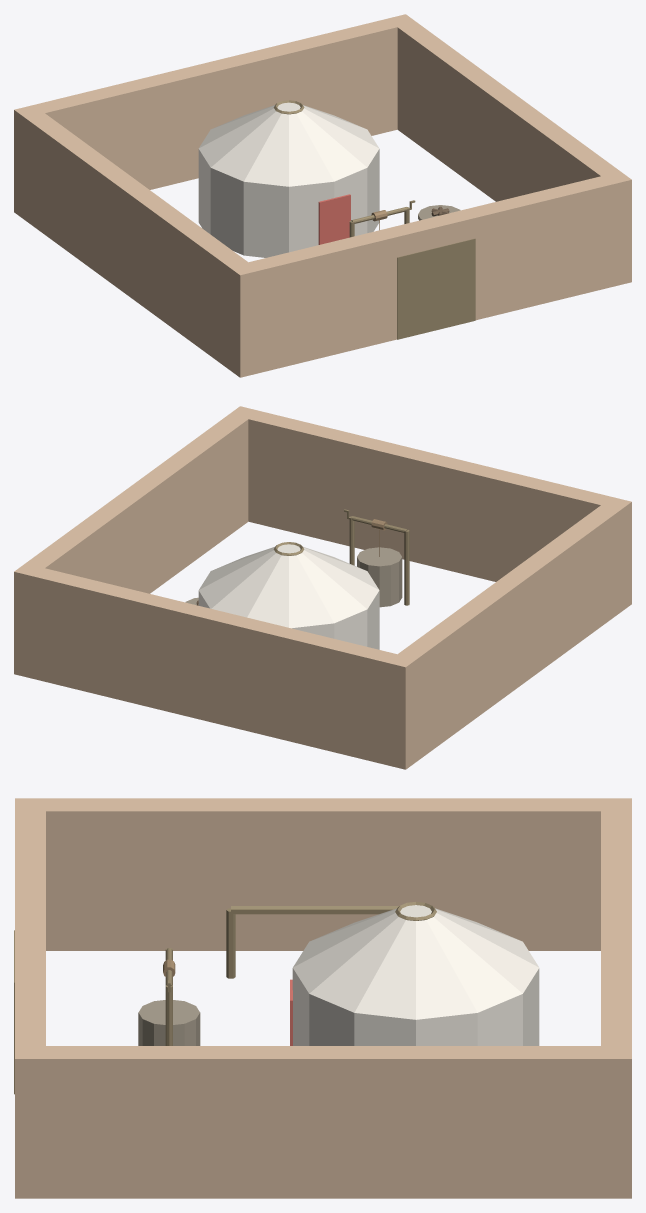
File: Caravansary_Steppe.fbx
The picture shows the model from 3 angles, top to bottom: view 1: azimuth 30°, elevation 25°; view 2: azimuth 150°, elevation 25°; view 3: azimuth 270°, elevation 25°; orthographic projection. The views are drawn at different scales.
Visible parts, largest first — view 1: Caravansary_Steppe_Mesh; view 2: Caravansary_Steppe_Mesh; view 3: Caravansary_Steppe_Mesh.
Part boxes in pixels (x1,y1,x2,y2): Caravansary_Steppe_Mesh: (14,14,631,377); Caravansary_Steppe_Mesh: (14,406,631,769); Caravansary_Steppe_Mesh: (14,798,631,1198).
Size of the model in its own units: 10 by 2.84 by 10.02.
